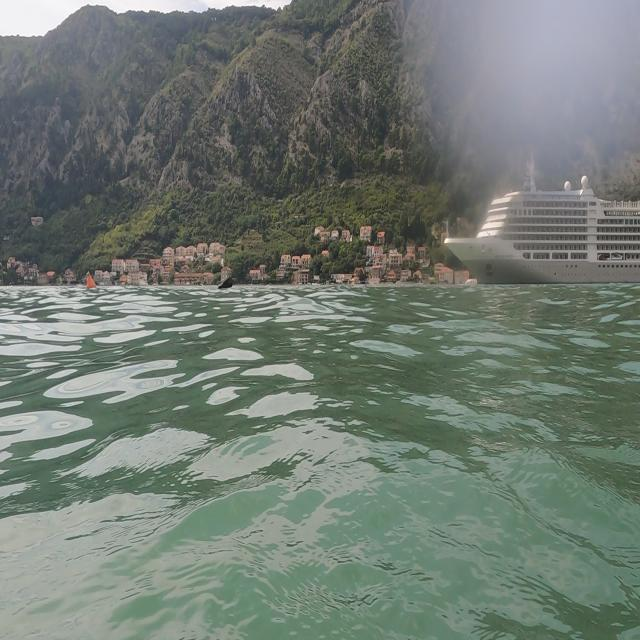boat: (442, 159, 638, 287)
buoy: (80, 264, 104, 298)
